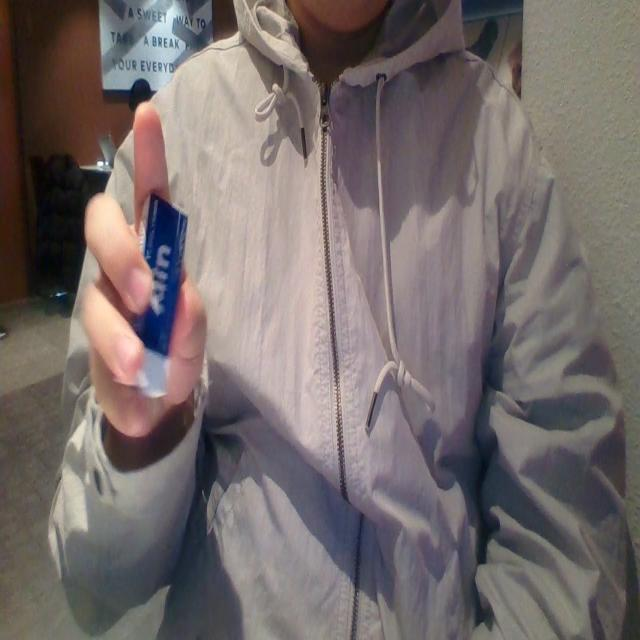eraser: (124, 190, 188, 392)
grab_eraser: (70, 100, 224, 470)
